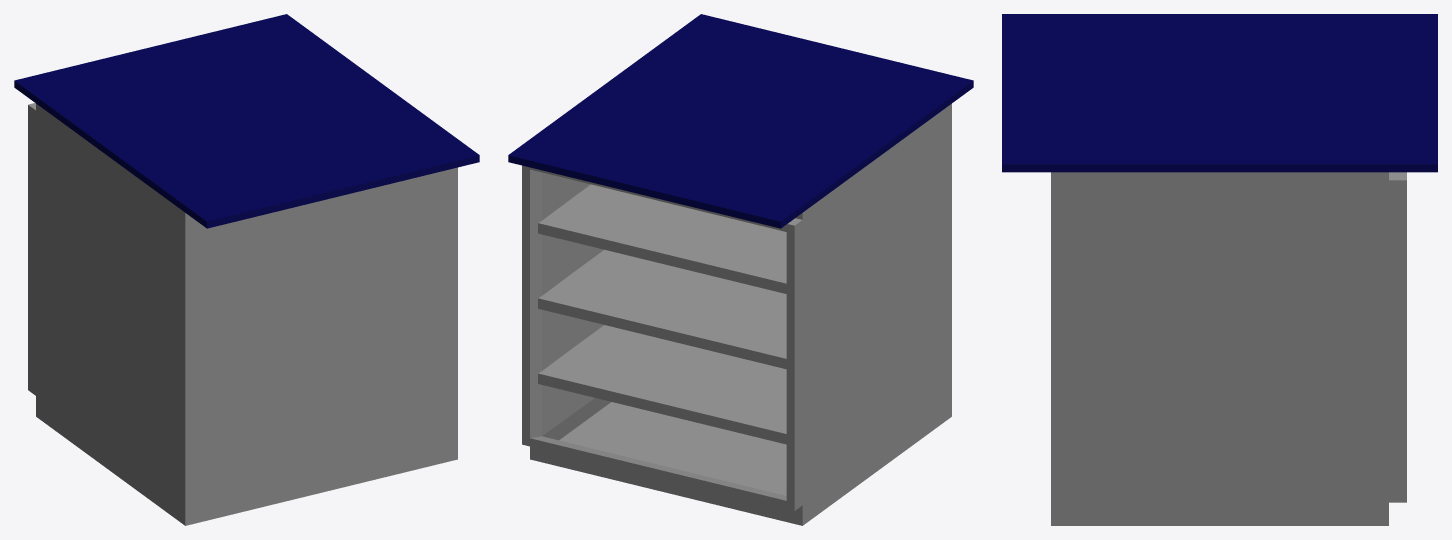
The model's file is counter_counter_4_shelves 1.fbx.
3 renders of one model, left to right at view 1: azimuth 30°, elevation 25°; view 2: azimuth 150°, elevation 25°; view 3: azimuth 270°, elevation 25°, orthographic. The views are drawn at different scales.
Visible parts, largest first — view 1: counter_counter_4_shelves.001; view 2: counter_counter_4_shelves.001; view 3: counter_counter_4_shelves.001.
Boxes of the visible parts, left/top/right/bottom form: counter_counter_4_shelves.001: left=14, top=14, right=479, bottom=525; counter_counter_4_shelves.001: left=508, top=14, right=973, bottom=525; counter_counter_4_shelves.001: left=1002, top=14, right=1437, bottom=525.
Bounding box in the file's own units: 6202 × 6957 × 7599.
